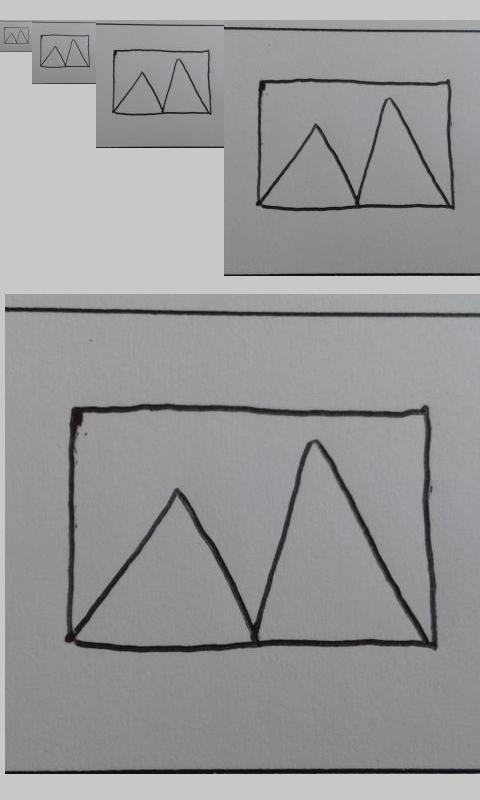image_view: (59, 402, 440, 656), (256, 77, 456, 211), (110, 48, 213, 116), (39, 33, 90, 69), (3, 26, 30, 45)
